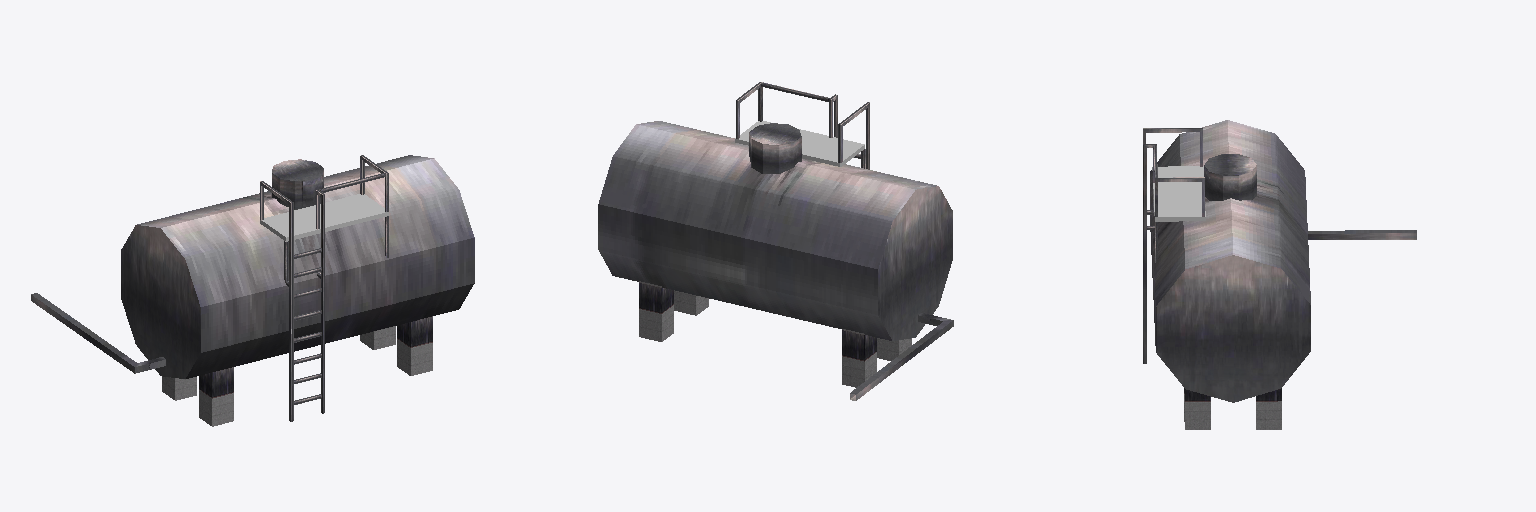
3 renders of one model, left to right at view 1: azimuth 30°, elevation 25°; view 2: azimuth 150°, elevation 25°; view 3: azimuth 270°, elevation 25°, orthographic.
Bounding box in the file's own units: 85.28 × 57.99 × 64.83.
4 materials, 3 textured.